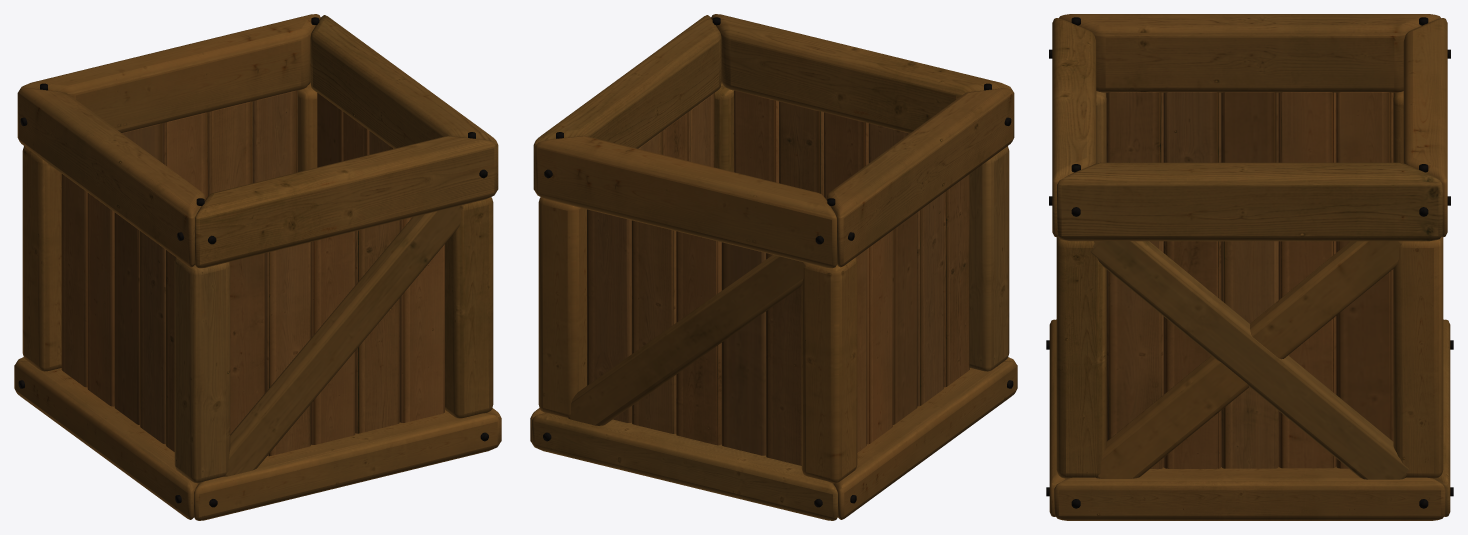
Rendered from crate.glb.
The picture shows the model from 3 angles, left to right: view 1: azimuth 30°, elevation 25°; view 2: azimuth 150°, elevation 25°; view 3: azimuth 270°, elevation 25°; orthographic projection. The views are drawn at different scales.
Parts seen in each view (by area): view 1: crate; view 2: crate; view 3: crate.
Part boxes in pixels (x1,y1,x2,y2): crate: (14, 14, 501, 520); crate: (530, 14, 1017, 520); crate: (1046, 14, 1453, 520).
Bounding box in the file's own units: 0.61 × 0.573 × 0.61.
Materials: 22 (22 with a texture image).
